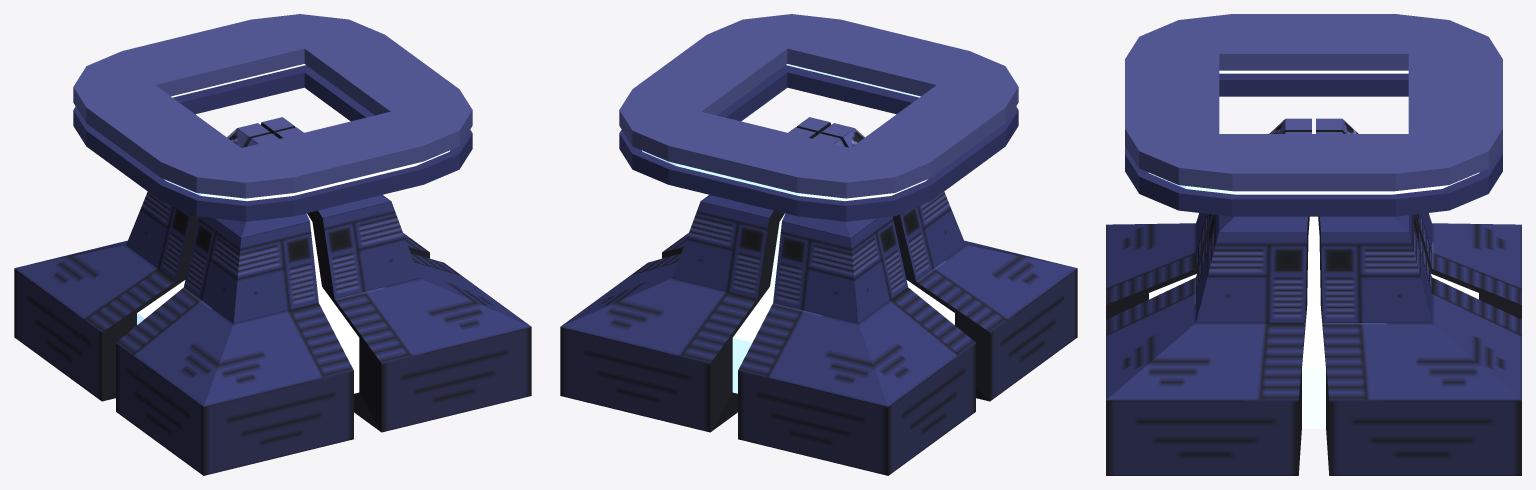
The model's file is Base EnergiGema.fbx.
3 views of the same model, side by side, from view 1: azimuth 30°, elevation 25°; view 2: azimuth 150°, elevation 25°; view 3: azimuth 270°, elevation 25° (orthographic). The views are drawn at different scales.
Visible parts, largest first — view 1: Cube.001; view 2: Cube.001; view 3: Cube.001.
Part boxes in pixels (box(x1,y1,x2,y2)): Cube.001: box(14, 14, 531, 475); Cube.001: box(560, 14, 1077, 475); Cube.001: box(1106, 14, 1521, 475).
Size of the model in its own units: 359 by 359 by 280.
2 materials, 1 textured.
